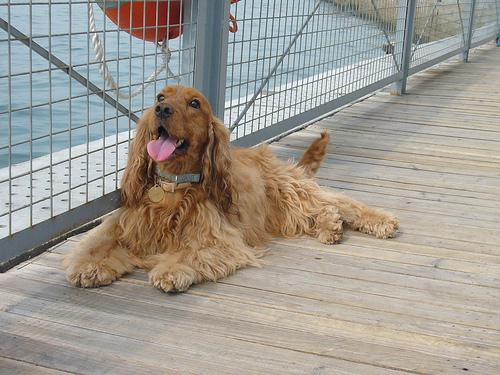dog: (121, 83, 230, 208)
